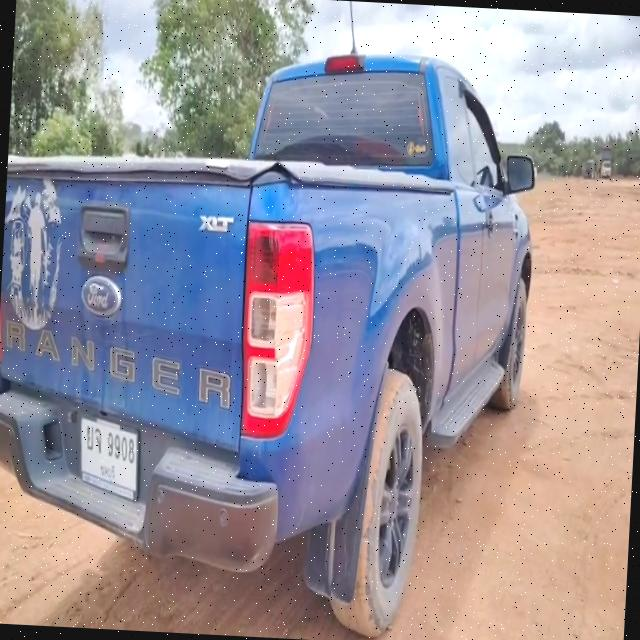Digit: (106, 432, 136, 466)
Licenseplate: (81, 416, 140, 503)
Provincename: (98, 462, 117, 484)
Thaichar: (86, 424, 102, 454)
